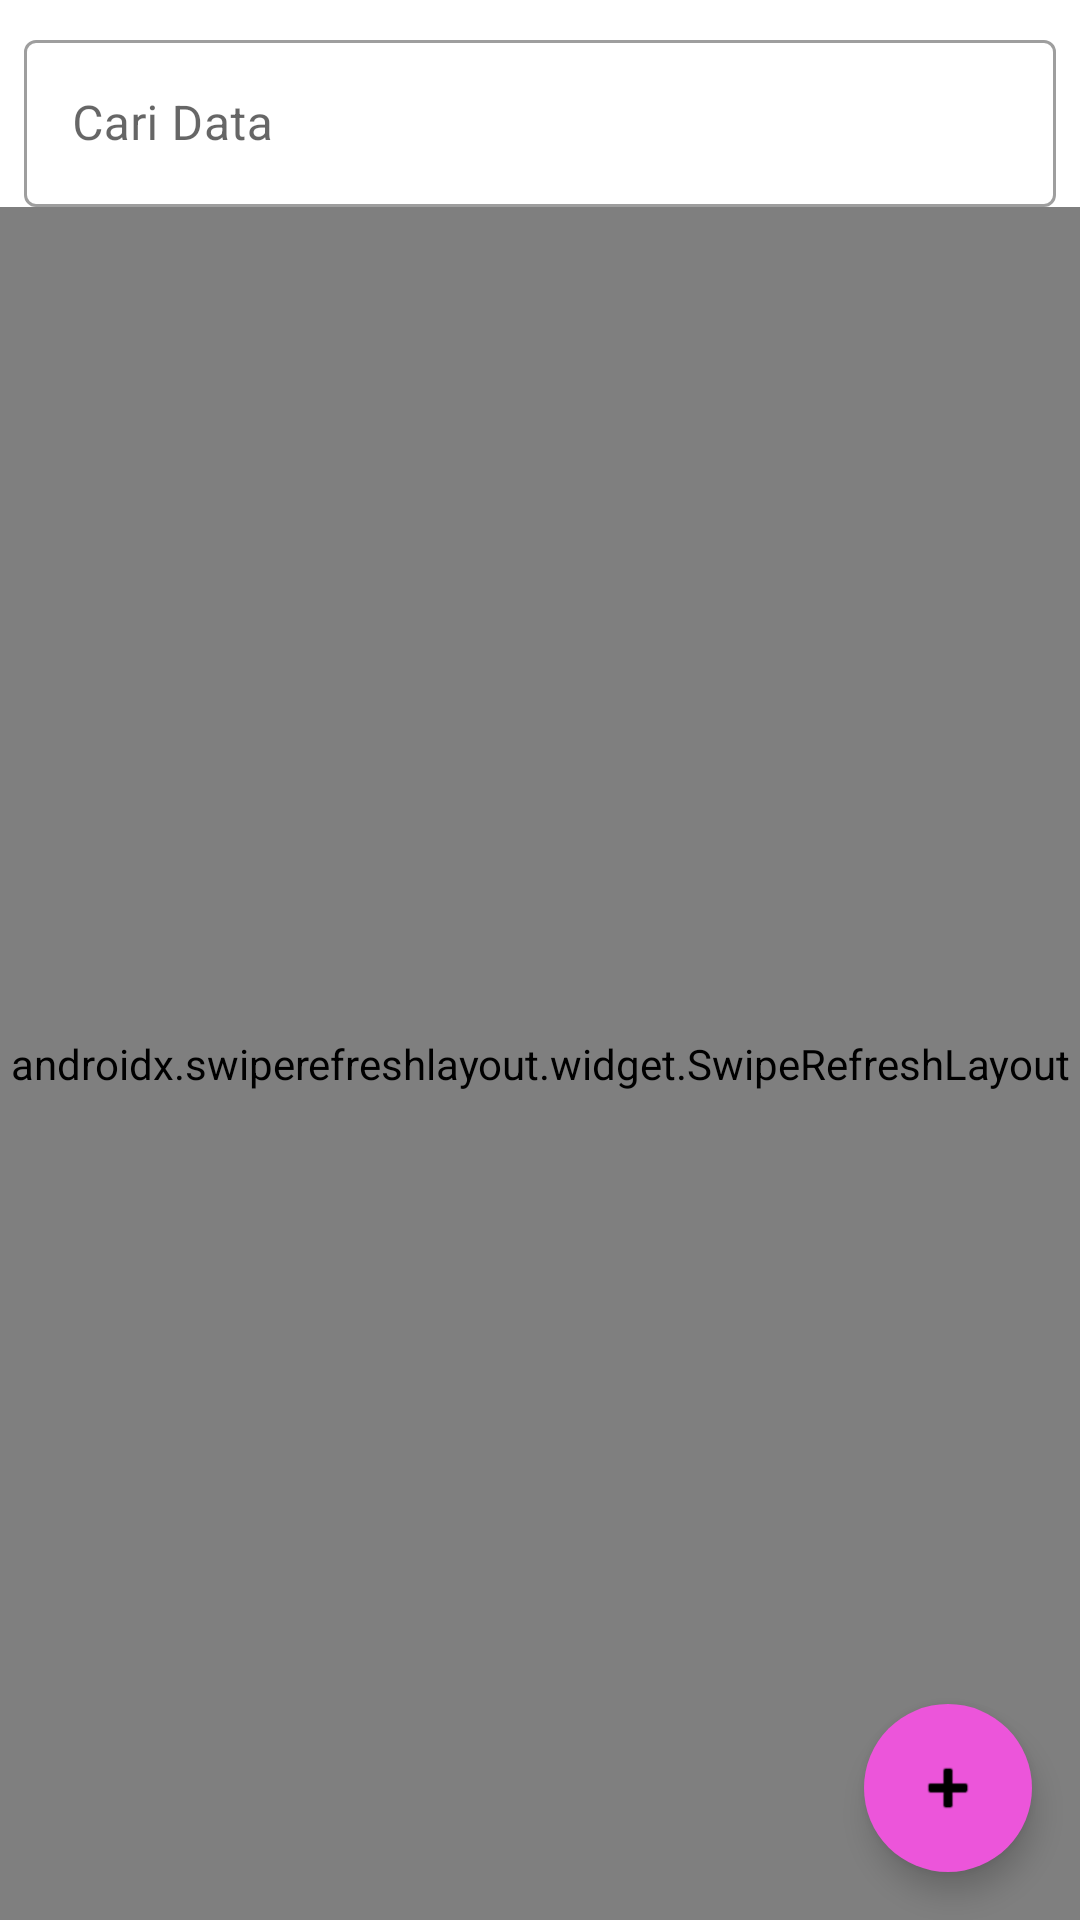

Icons on this 1080px x 1920px Android screen, each with its box as (x1, y1, x2, y2):
Tambah Pengguna: (864, 1704, 1032, 1872)
